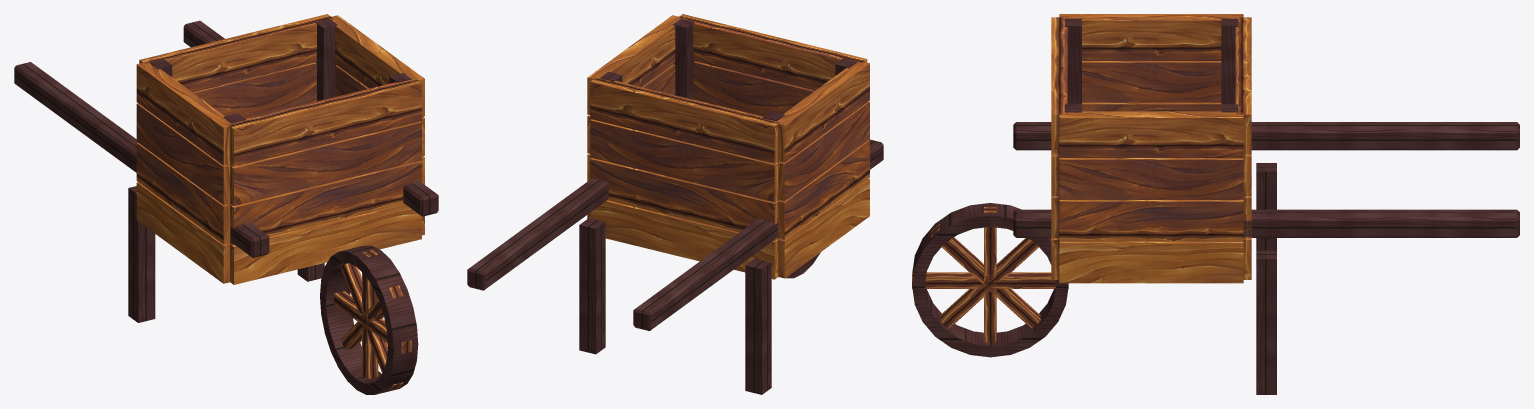
The model's file is Wheelbarrow.fbx.
3 views of the same model, side by side, from view 1: azimuth 30°, elevation 25°; view 2: azimuth 150°, elevation 25°; view 3: azimuth 270°, elevation 25° (orthographic). The views are drawn at different scales.
Parts seen in each view (by area): view 1: Crate long side board.054, Wagon wheel.010, Crate long side board.052, Crate long side board.050, Crate long side board.048, Crate long side board.055, Barrow handle, Crate short side board.054, Crate long side board.053, Crate short side board.052, Crate short side board.048, Crate short side board.050 (+9 smaller); view 2: Crate long side board.055, Crate long side board.053, Crate long side board.051, Crate long side board.054, Crate long side board.049, Barrow handle, Barrow handle.001, Crate short side board.054, Crate long side board.052, Crate short side board.050, Crate short side board.048, Crate short side board.052 (+5 smaller); view 3: Barrow handle.001, Barrow handle, Crate short side board.055, Crate short side board.049, Crate short side board.051, Crate short side board.053, Wagon wheel.010, Crate short side board.054, Crate short side board.052, Barrow leg.001, Crate long side board.054, Crate long side board.055 (+8 smaller).
Part boxes in pixels (x1,y1,x2,y2): Crate long side board.054: (226,78,421,166); Wagon wheel.010: (320,245,418,394); Crate long side board.052: (229,121,421,205); Crate long side board.050: (229,161,421,245); Crate long side board.048: (229,204,421,284); Crate long side board.055: (139,14,334,91); Barrow handle: (14,62,269,257); Crate short side board.054: (136,61,230,165); Crate long side board.053: (192,62,316,118); Crate short side board.052: (136,103,230,204); Crate short side board.048: (136,182,230,283); Crate short side board.050: (136,142,230,244); Crate long side board.055: (590,78,781,163); Crate long side board.053: (590,119,779,202); Crate long side board.051: (590,158,779,240); Crate long side board.054: (677,14,867,90); Crate long side board.049: (590,200,779,279); Barrow handle: (633,139,883,330); Barrow handle.001: (467,178,608,290); Crate short side board.054: (772,61,869,162); Crate long side board.052: (693,61,814,116); Crate short side board.050: (777,140,869,239); Crate short side board.048: (778,179,869,278); Crate short side board.052: (778,101,869,201); Barrow handle.001: (1013,209,1519,237); Barrow handle: (1013,122,1519,150); Crate short side board.055: (1059,111,1243,157); Crate short side board.049: (1059,241,1243,283); Crate short side board.051: (1059,200,1243,241); Crate short side board.053: (1059,158,1243,199); Wagon wheel.010: (912,203,1068,357); Crate short side board.054: (1059,14,1243,60); Crate short side board.052: (1082,61,1221,102); Barrow leg.001: (1256,250,1276,394); Crate long side board.054: (1051,17,1067,154); Crate long side board.055: (1235,17,1251,154).
Size of the model in its own units: 107 by 135 by 264.
